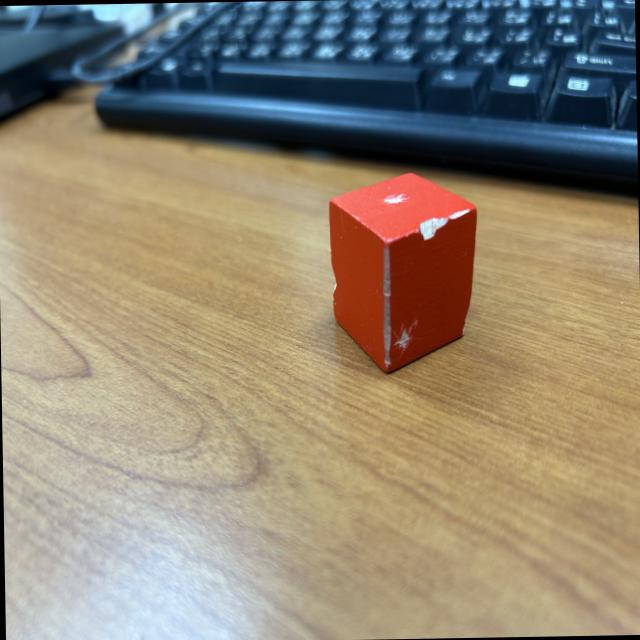broken: (326, 170, 479, 374)
